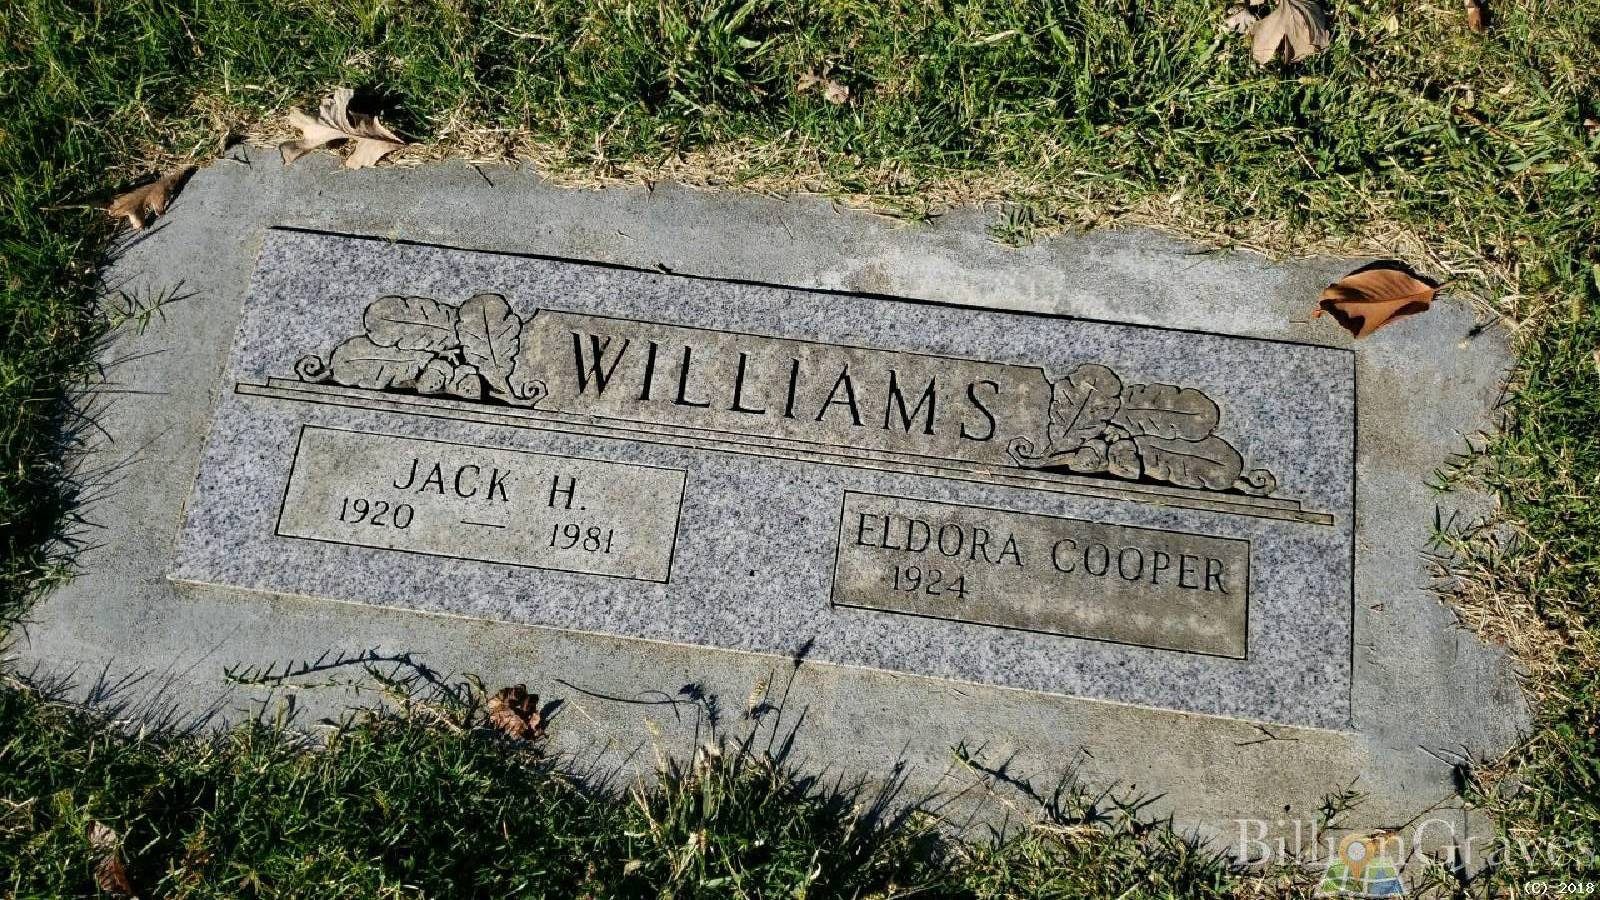flat: (2, 127, 1533, 880)
